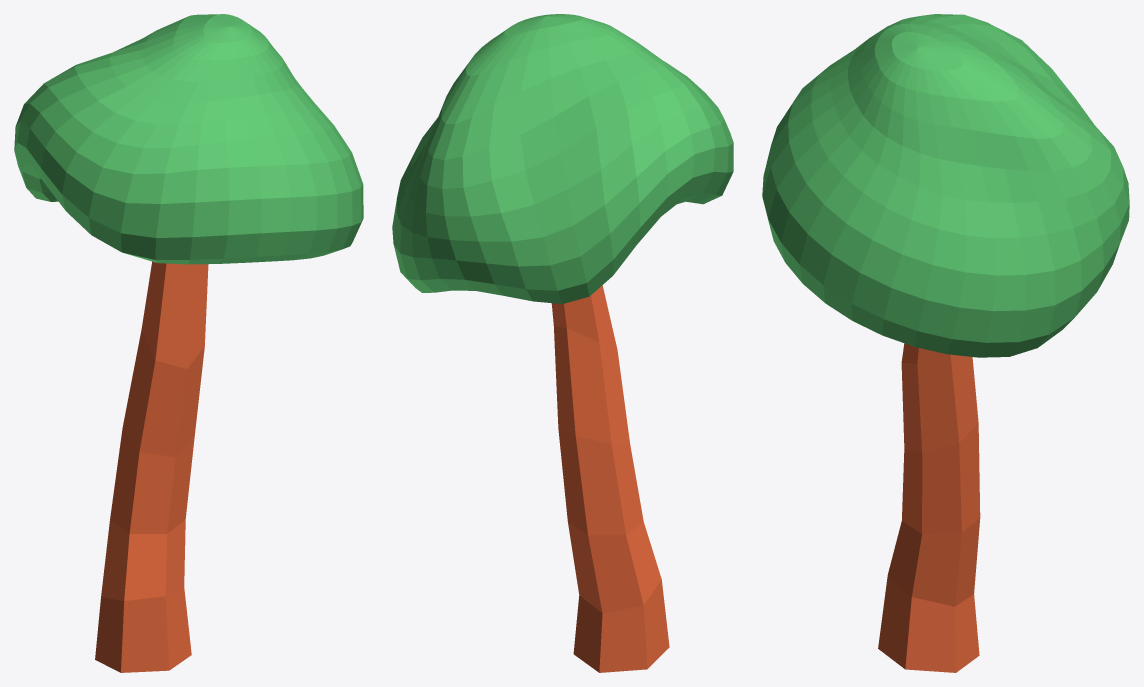
The model's file is Tree06.fbx.
The picture shows the model from 3 angles, left to right: view 1: azimuth 30°, elevation 25°; view 2: azimuth 150°, elevation 25°; view 3: azimuth 270°, elevation 25°; orthographic projection. The views are drawn at different scales.
Parts seen in each view (by area): view 1: Circle.011; view 2: Circle.011; view 3: Circle.011.
Boxes of the visible parts, x1=… form: Circle.011: x1=14, y1=14, x2=363, y2=672; Circle.011: x1=392, y1=14, x2=733, y2=672; Circle.011: x1=762, y1=14, x2=1129, y2=672.
Bounding box in the file's own units: 1846 × 3643 × 1862.
